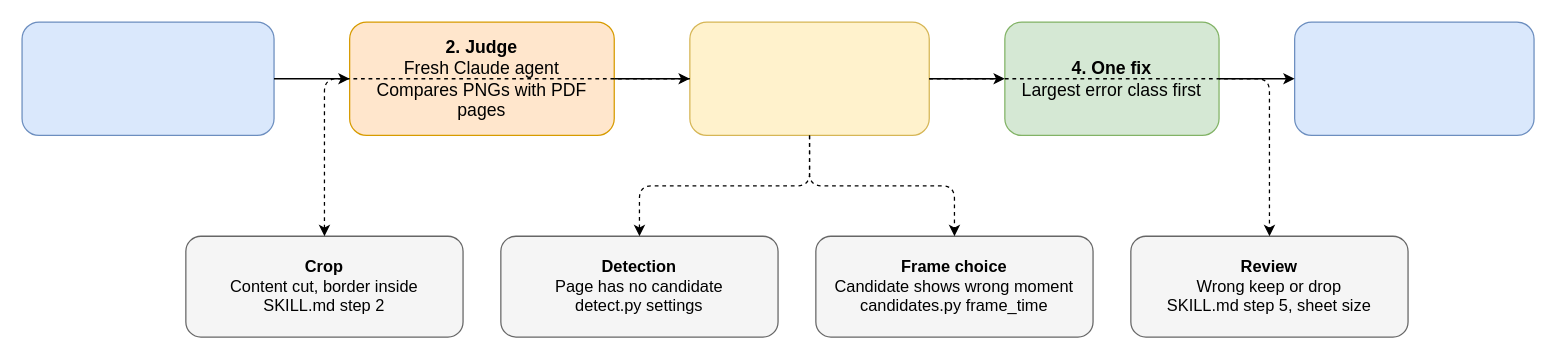
This 1556x359 diagram has some shape labels left out. Here are the shapes that lost their labels. From the top down, the centre of each, then its label:
At point 147,78: "1. Baseline Skill frozen at b77c7c0 Blind runs, videos 1 and 2".
At point 809,78: "3. Assign each error to one pipeline step".
At point 1413,78: "5. Re-run both videos Stop when targets are met".
